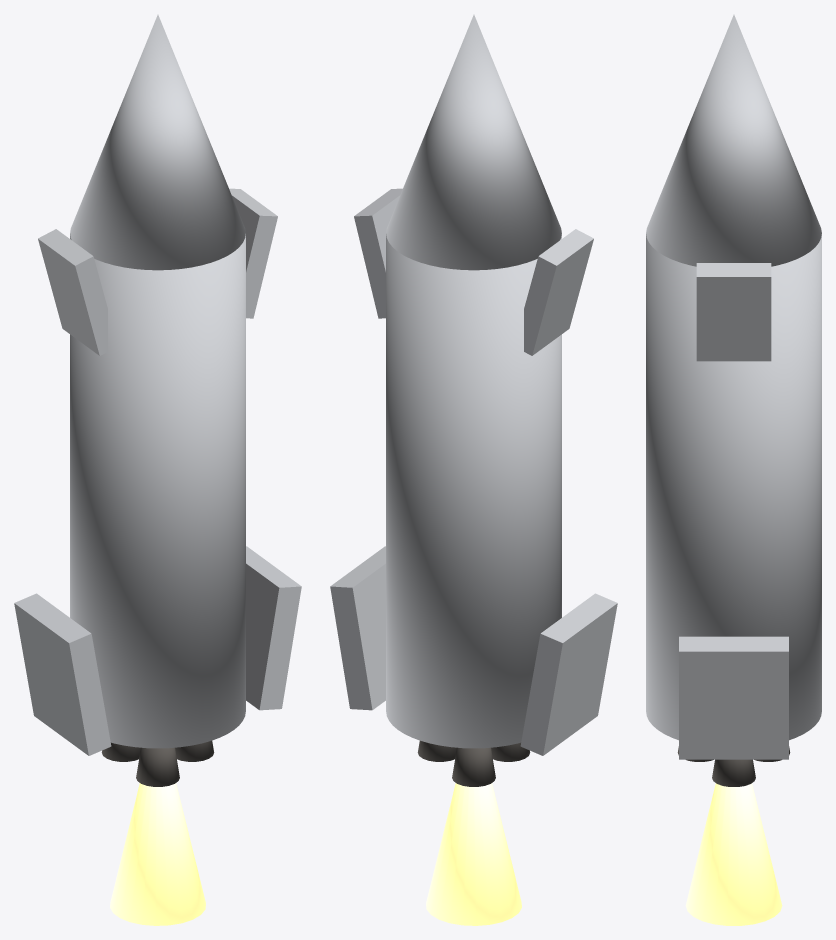
Rendered from rocket_steel.glb.
The picture shows the model from 3 angles, left to right: view 1: azimuth 30°, elevation 25°; view 2: azimuth 150°, elevation 25°; view 3: azimuth 270°, elevation 25°; orthographic projection.
Visible parts, largest first — view 1: rocket_steel_body, rocket_steel_nose, rocket_steel_flame, rocket_steel_aft1, rocket_steel_aft0, rocket_steel_fwd1, rocket_steel_fwd0, rocket_steel_noz2, rocket_steel_noz0; view 2: rocket_steel_body, rocket_steel_nose, rocket_steel_flame, rocket_steel_aft1, rocket_steel_aft0, rocket_steel_fwd1, rocket_steel_fwd0, rocket_steel_noz1, rocket_steel_noz0; view 3: rocket_steel_body, rocket_steel_nose, rocket_steel_aft0, rocket_steel_flame, rocket_steel_fwd0, rocket_steel_noz0.
Boxes of the visible parts, x1,y1,x2,y2 form: rocket_steel_body: (70, 234, 245, 748); rocket_steel_nose: (70, 14, 245, 270); rocket_steel_flame: (110, 783, 205, 925); rocket_steel_aft1: (14, 593, 111, 755); rocket_steel_aft0: (246, 546, 301, 710); rocket_steel_fwd1: (38, 229, 107, 355); rocket_steel_fwd0: (229, 188, 277, 318); rocket_steel_noz2: (136, 747, 179, 786); rocket_steel_noz0: (175, 740, 214, 761); rocket_steel_body: (386, 234, 561, 748); rocket_steel_nose: (386, 14, 561, 270); rocket_steel_flame: (426, 783, 521, 925); rocket_steel_aft1: (520, 593, 617, 755); rocket_steel_aft0: (330, 546, 385, 710); rocket_steel_fwd1: (524, 229, 593, 355); rocket_steel_fwd0: (354, 188, 402, 318); rocket_steel_noz1: (452, 747, 495, 786); rocket_steel_noz0: (417, 740, 456, 761); rocket_steel_body: (646, 234, 821, 740); rocket_steel_nose: (646, 14, 821, 266); rocket_steel_aft0: (679, 636, 788, 759); rocket_steel_flame: (685, 783, 782, 925); rocket_steel_fwd0: (696, 263, 771, 361); rocket_steel_noz0: (712, 759, 755, 786).
Size of the model in its own units: 1.22 by 4.48 by 0.8.
